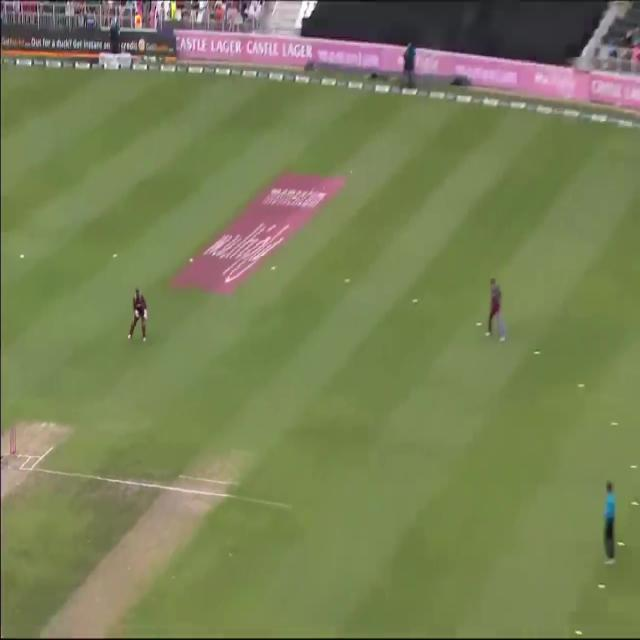Fielder: (485, 273, 510, 345), (124, 288, 152, 345)
Umpire: (600, 470, 619, 563)
